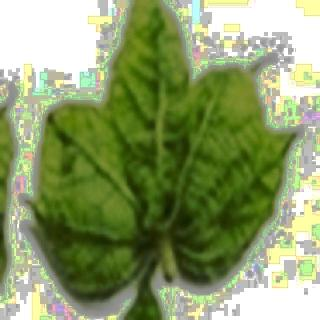curl: (47, 64, 273, 284)
